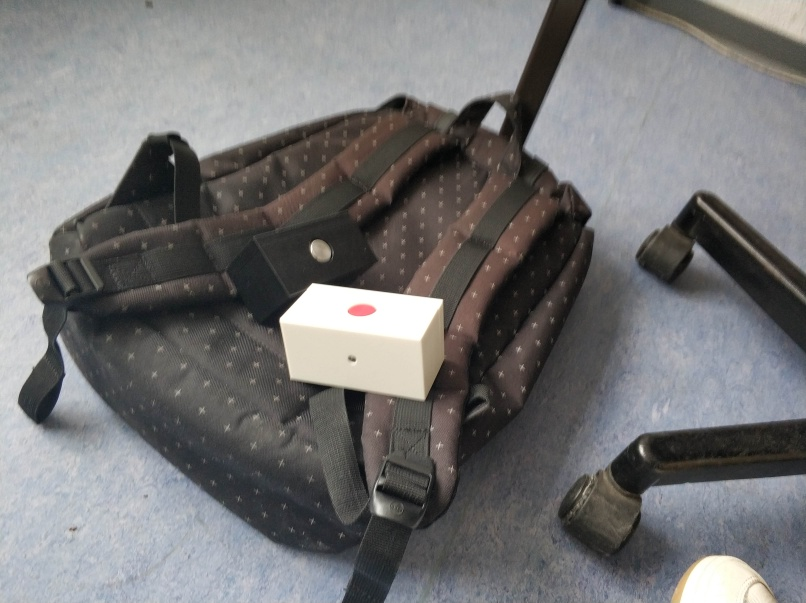black+black+silver: (225, 210, 379, 327)
white+white+red: (274, 282, 450, 405)
